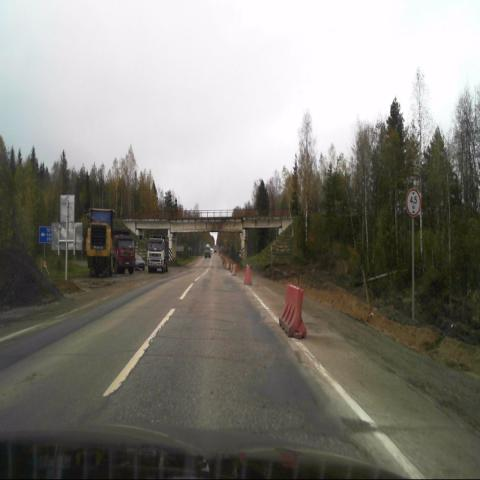3_13: (405, 188, 421, 216)
